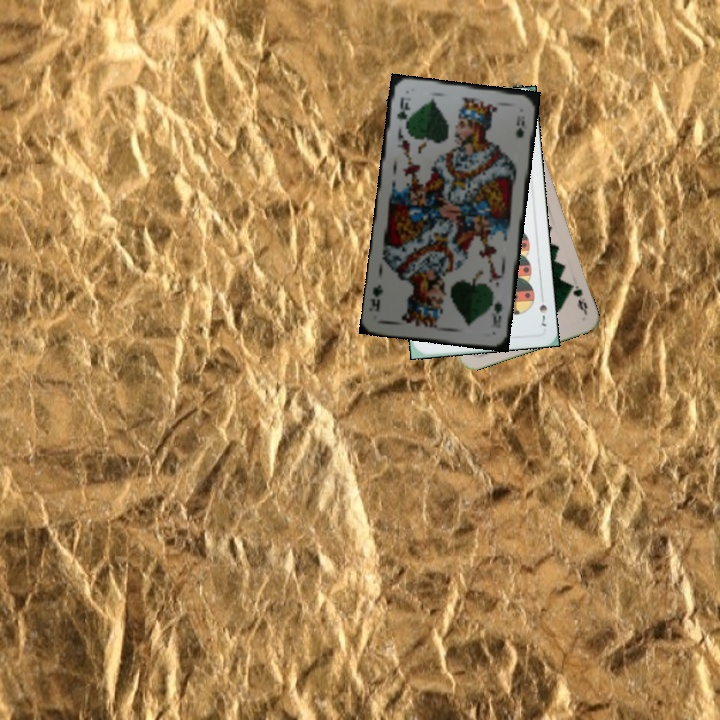G9: (563, 279, 590, 316)
GK: (487, 292, 505, 331), (393, 92, 411, 131)
S7: (535, 290, 550, 329)
